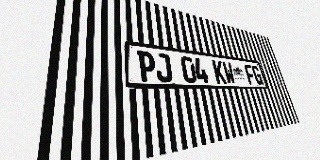0: (180, 56, 197, 83)
4: (193, 57, 209, 83)
F: (243, 64, 257, 85)
G: (251, 65, 264, 85)
J: (154, 52, 173, 82)
K: (212, 60, 227, 84)
P: (137, 50, 157, 82)
W: (222, 61, 236, 84)
